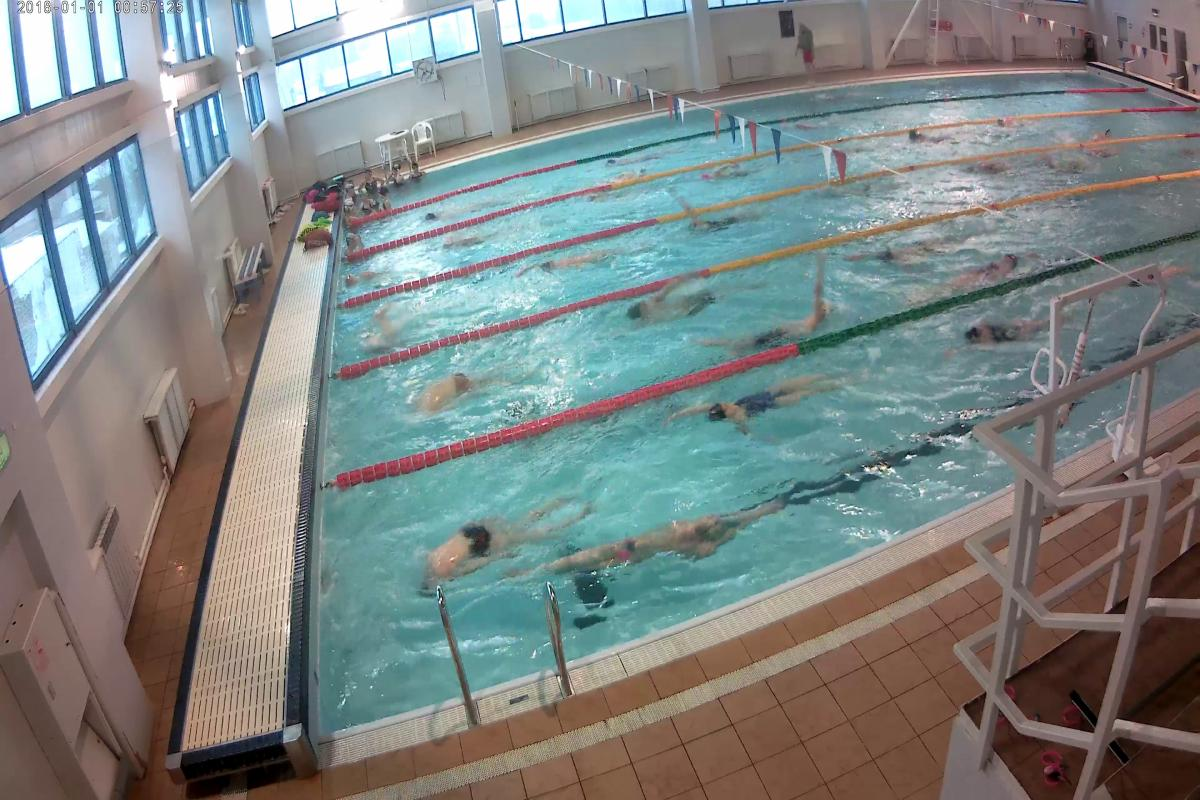swimmer: (676, 360, 846, 447), (561, 504, 748, 579), (420, 499, 549, 589), (721, 298, 844, 350), (610, 281, 720, 334), (518, 244, 613, 290), (422, 358, 488, 424), (961, 305, 1040, 353), (673, 206, 760, 239), (936, 250, 1022, 282), (694, 157, 760, 192), (899, 127, 952, 147)
